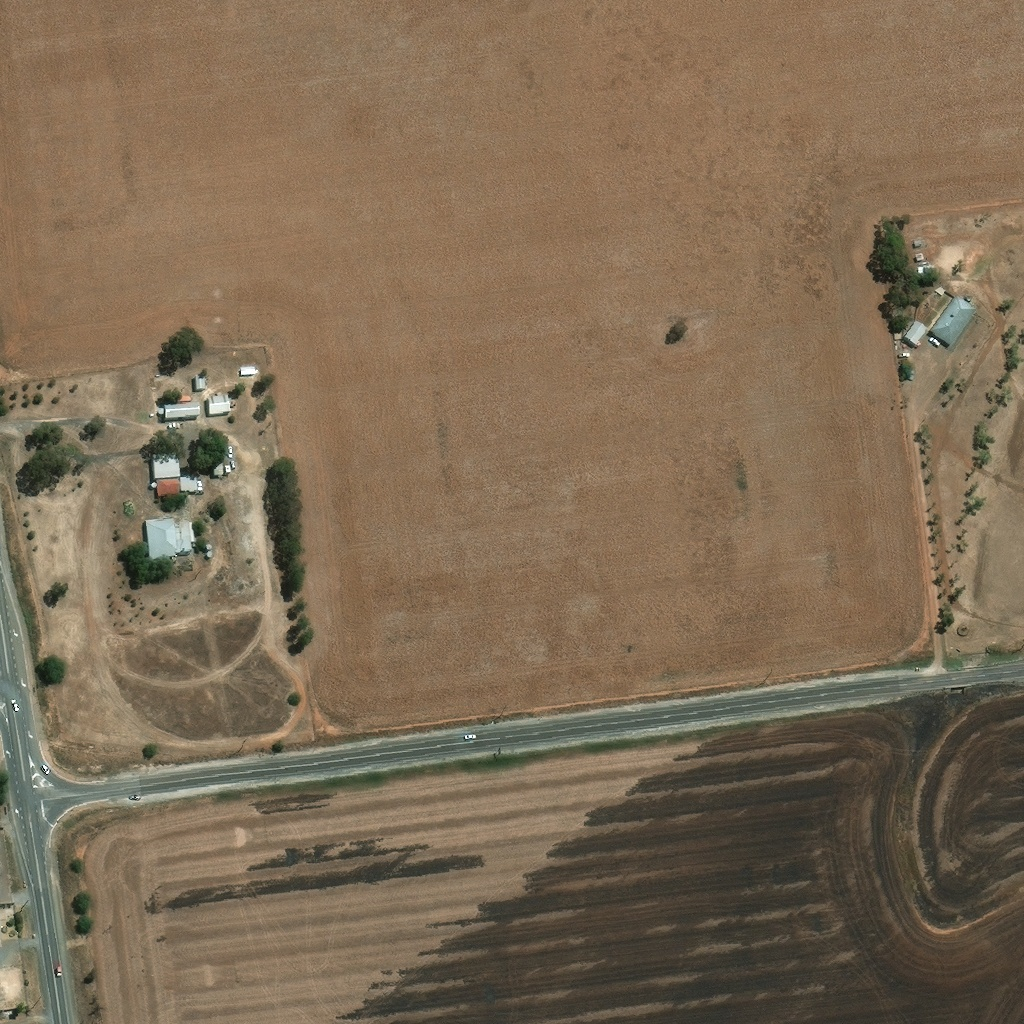0 no-damage: (928, 297, 978, 352), (144, 519, 191, 563), (152, 456, 198, 498), (905, 322, 928, 349), (164, 405, 200, 422), (207, 398, 232, 418), (195, 377, 206, 392), (240, 368, 256, 377), (918, 268, 935, 276), (913, 240, 924, 250), (212, 468, 222, 478), (177, 397, 191, 404), (917, 256, 925, 264), (225, 468, 231, 477), (919, 263, 929, 268), (158, 410, 165, 417), (151, 484, 157, 491), (207, 555, 213, 561), (206, 549, 211, 555)
4 un-classified: (0, 965, 23, 1010), (557, 688, 566, 698)
